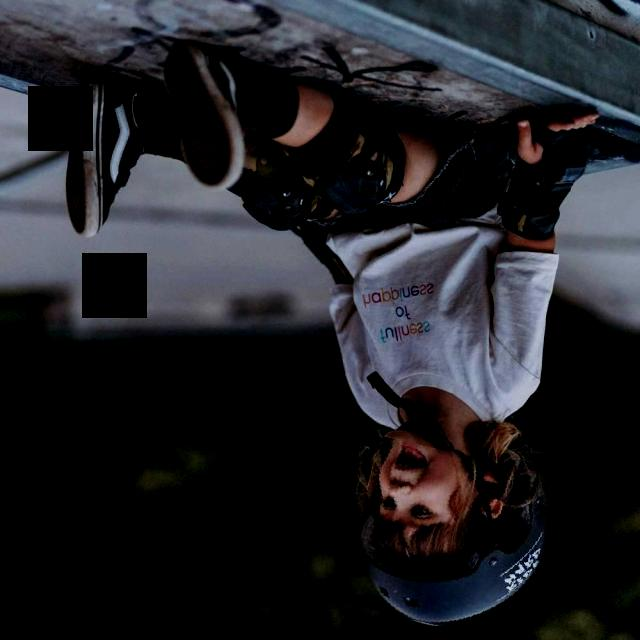helmet: (351, 446, 553, 636)
